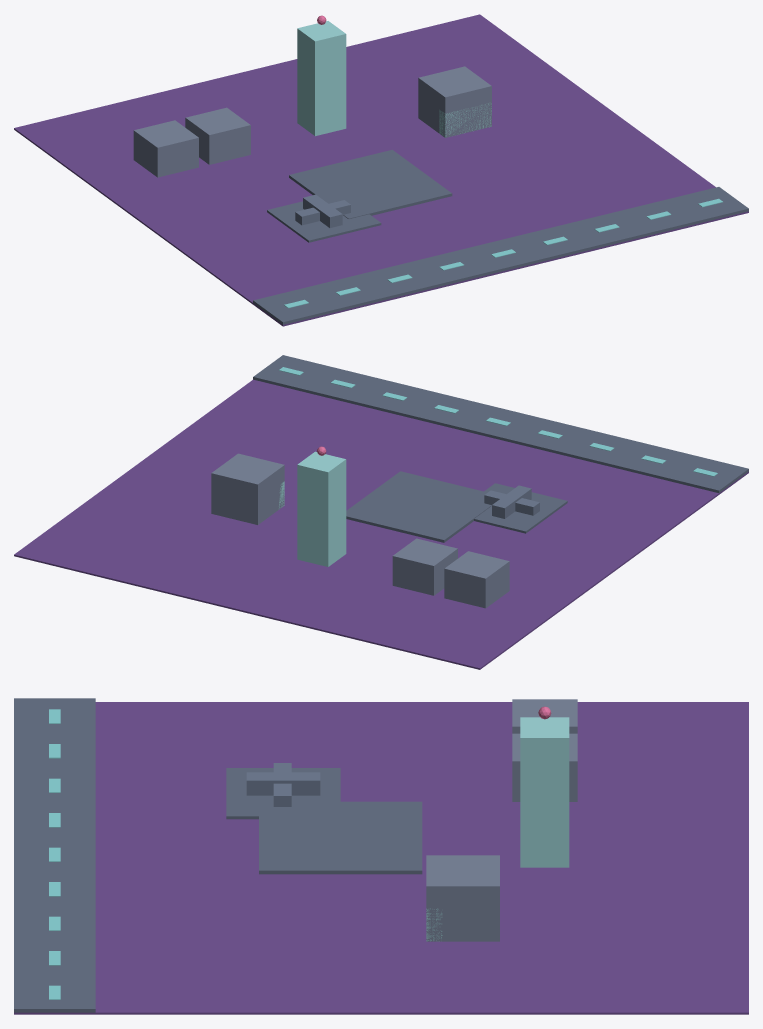
File: stage_06.glb
3 views of the same model, one above another, from view 1: azimuth 30°, elevation 25°; view 2: azimuth 150°, elevation 25°; view 3: azimuth 270°, elevation 25° (orthographic). The views are drawn at different scales.
Visible parts, largest first — view 1: geometry_0; view 2: geometry_0; view 3: geometry_0.
Boxes of the visible parts, <box> form: geometry_0: <box>14,14,748,326</box>; geometry_0: <box>14,355,748,669</box>; geometry_0: <box>14,698,748,1014</box>.
Size of the model in its own units: 9 by 2.06 by 9.
